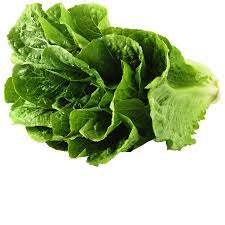lettuce: (8, 2, 225, 159)
